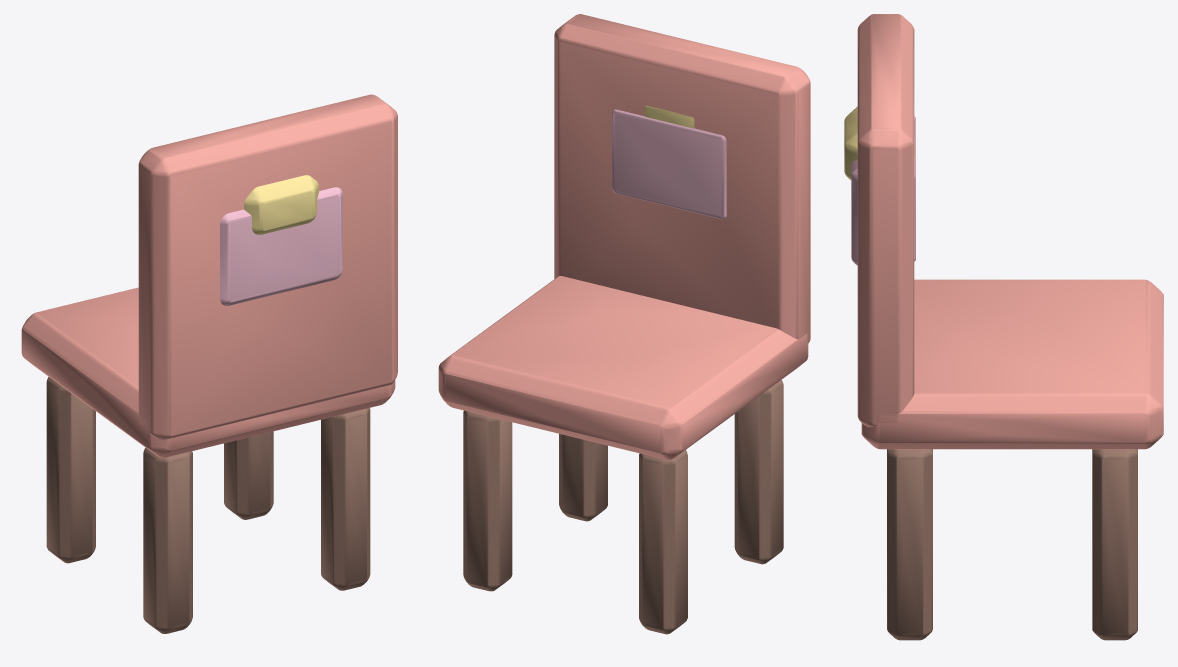
File: dining_chair_coral.glb
3 renders of one model, left to right at view 1: azimuth 30°, elevation 25°; view 2: azimuth 150°, elevation 25°; view 3: azimuth 270°, elevation 25°, orthographic. The views are drawn at different scales.
Parts seen in each view (by area): view 1: DiningChairCoral_Back, DiningChairCoral_Seat, DiningChairCoral_BackInset, DiningChairCoral_Leg_BL, DiningChairCoral_Leg_BR, DiningChairCoral_Leg_FL, DiningChairCoral_Leg_FR, DiningChairCoral_BackBadge; view 2: DiningChairCoral_Back, DiningChairCoral_Seat, DiningChairCoral_BackInset, DiningChairCoral_Leg_FR, DiningChairCoral_Leg_FL, DiningChairCoral_Leg_BL, DiningChairCoral_Leg_BR, DiningChairCoral_BackBadge; view 3: DiningChairCoral_Seat, DiningChairCoral_Back, DiningChairCoral_Leg_BR, DiningChairCoral_Leg_FR, DiningChairCoral_BackInset, DiningChairCoral_BackBadge.
Boxes of the visible parts, box(x1,y1,x2,y2) form: DiningChairCoral_Back: box(138, 94, 397, 439); DiningChairCoral_Seat: box(21, 287, 395, 457); DiningChairCoral_BackInset: box(220, 187, 342, 305); DiningChairCoral_Leg_BL: box(143, 447, 192, 633); DiningChairCoral_Leg_BR: box(321, 408, 370, 590); DiningChairCoral_Leg_FL: box(46, 377, 95, 563); DiningChairCoral_Leg_FR: box(224, 431, 273, 519); DiningChairCoral_BackBadge: box(244, 175, 319, 234); DiningChairCoral_Back: box(554, 14, 810, 342); DiningChairCoral_Seat: box(438, 276, 808, 459); DiningChairCoral_BackInset: box(612, 109, 726, 219); DiningChairCoral_Leg_FR: box(463, 410, 512, 591); DiningChairCoral_Leg_FL: box(639, 450, 687, 634); DiningChairCoral_Leg_BL: box(734, 380, 783, 564); DiningChairCoral_Leg_BR: box(559, 434, 607, 521); DiningChairCoral_BackBadge: box(644, 105, 694, 128); DiningChairCoral_Seat: box(861, 279, 1163, 449); DiningChairCoral_Back: box(857, 14, 914, 427); DiningChairCoral_Leg_BR: box(887, 449, 932, 640); DiningChairCoral_Leg_FR: box(1092, 449, 1137, 640); DiningChairCoral_BackInset: box(851, 116, 915, 265); DiningChairCoral_BackBadge: box(844, 106, 914, 180).
Bounding box in the file's own units: 0.56 × 1.06 × 0.592.
